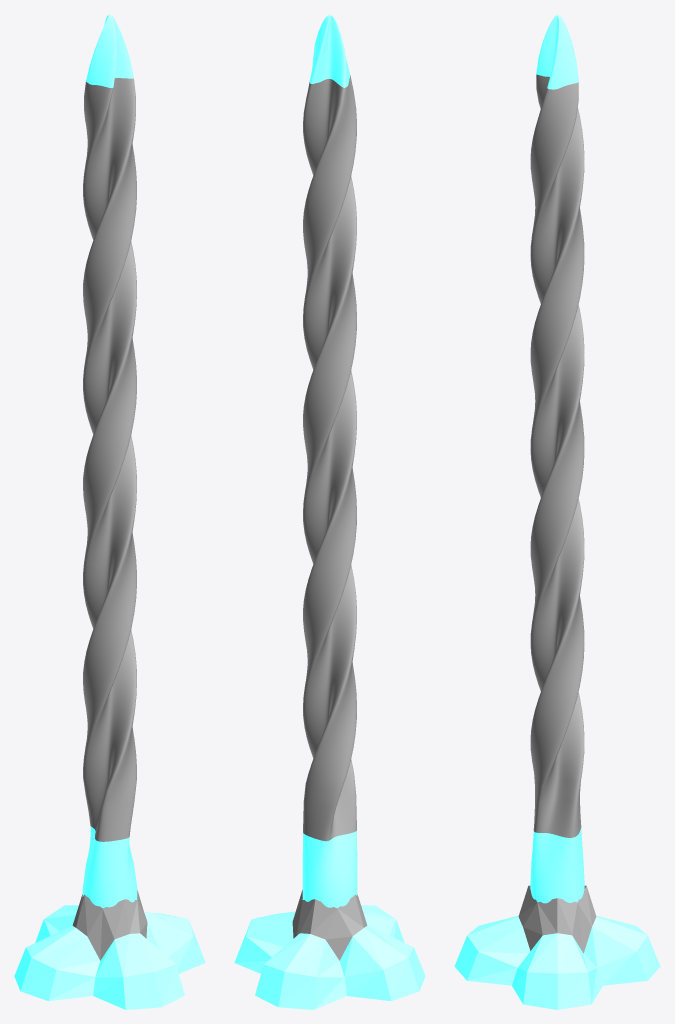
The model's file is drill.glb.
3 renders of one model, left to right at view 1: azimuth 30°, elevation 25°; view 2: azimuth 150°, elevation 25°; view 3: azimuth 270°, elevation 25°, orthographic.
Parts seen in each view (by area): view 1: Object_5, Object_6, Object_3, Object_4; view 2: Object_5, Object_6, Object_3, Object_4; view 3: Object_5, Object_6, Object_3, Object_4.
Boxes of the visible parts, x1,y1,x2,y2 form: Object_5: (83, 78, 136, 841); Object_6: (14, 14, 205, 1009); Object_3: (72, 890, 146, 939); Object_4: (87, 900, 147, 960); Object_5: (303, 75, 356, 841); Object_6: (234, 14, 425, 1009); Object_3: (293, 890, 367, 939); Object_4: (292, 900, 352, 960); Object_5: (530, 74, 584, 837); Object_6: (454, 14, 660, 1009); Object_3: (518, 885, 596, 935); Object_4: (523, 903, 591, 953).
Size of the model in its own units: 2.11 by 10.82 by 2.11.
